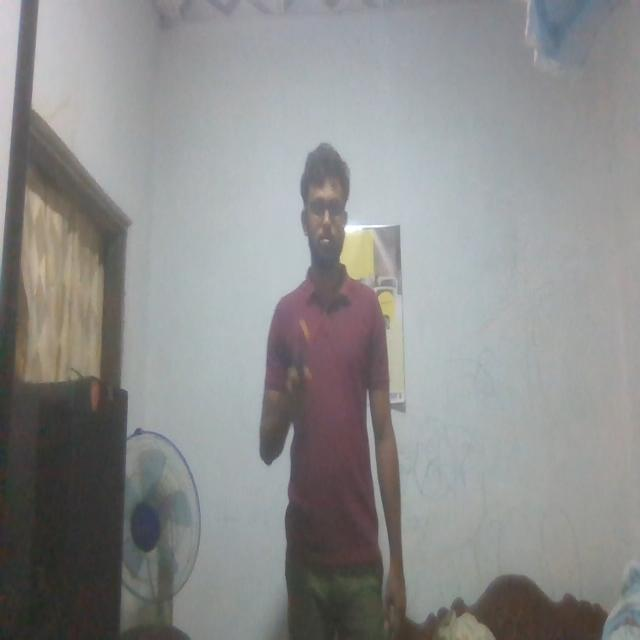Gun_Holder: (280, 317, 314, 407)
Person: (257, 135, 401, 640)
